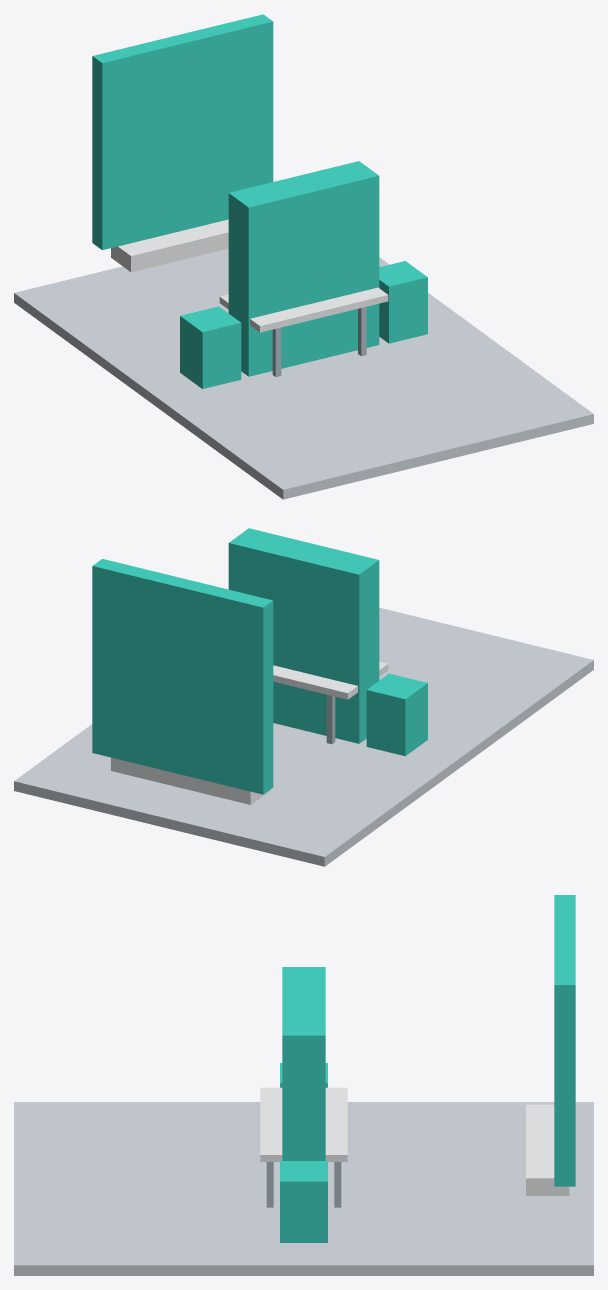
3 views of the same model, one above another, from view 1: azimuth 30°, elevation 25°; view 2: azimuth 150°, elevation 25°; view 3: azimuth 270°, elevation 25° (orthographic). The views are drawn at different scales.
Parts seen in each view (by area): view 1: Exhibition Booth Concept; view 2: Exhibition Booth Concept; view 3: Exhibition Booth Concept.
Part boxes in pixels (bbox=[...]): Exhibition Booth Concept: bbox=[14, 14, 593, 499]; Exhibition Booth Concept: bbox=[14, 528, 593, 866]; Exhibition Booth Concept: bbox=[14, 895, 593, 1275].
Size of the model in its own units: 4 by 2.9 by 6.
